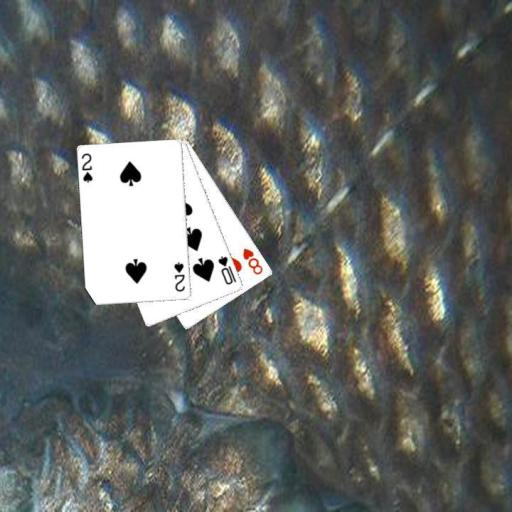10S: (215, 253, 238, 287)
2S: (78, 150, 94, 184), (172, 259, 187, 293)
8H: (240, 245, 265, 277)
